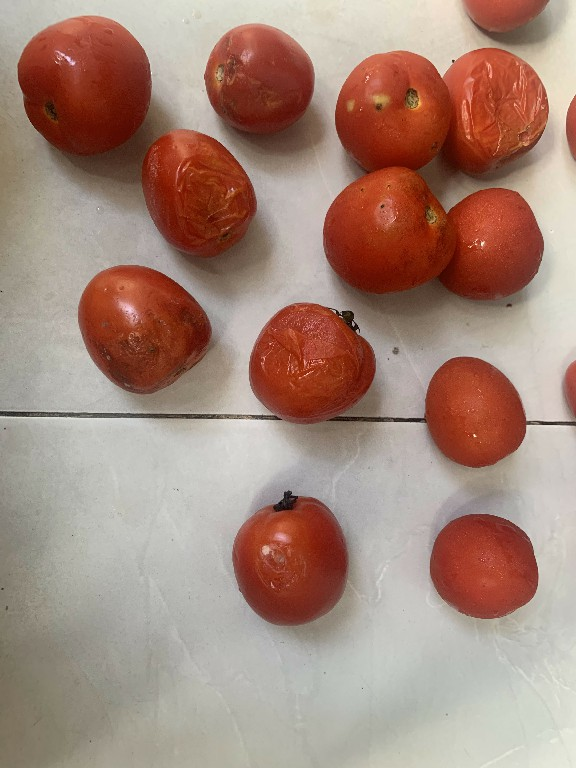NG: (62, 257, 224, 402), (215, 483, 354, 629), (242, 291, 380, 430), (319, 164, 455, 297), (144, 124, 262, 269), (199, 15, 322, 142), (335, 44, 452, 165), (438, 40, 534, 171)
OK: (10, 11, 150, 161), (418, 503, 545, 630), (412, 347, 537, 467), (443, 182, 553, 306)
